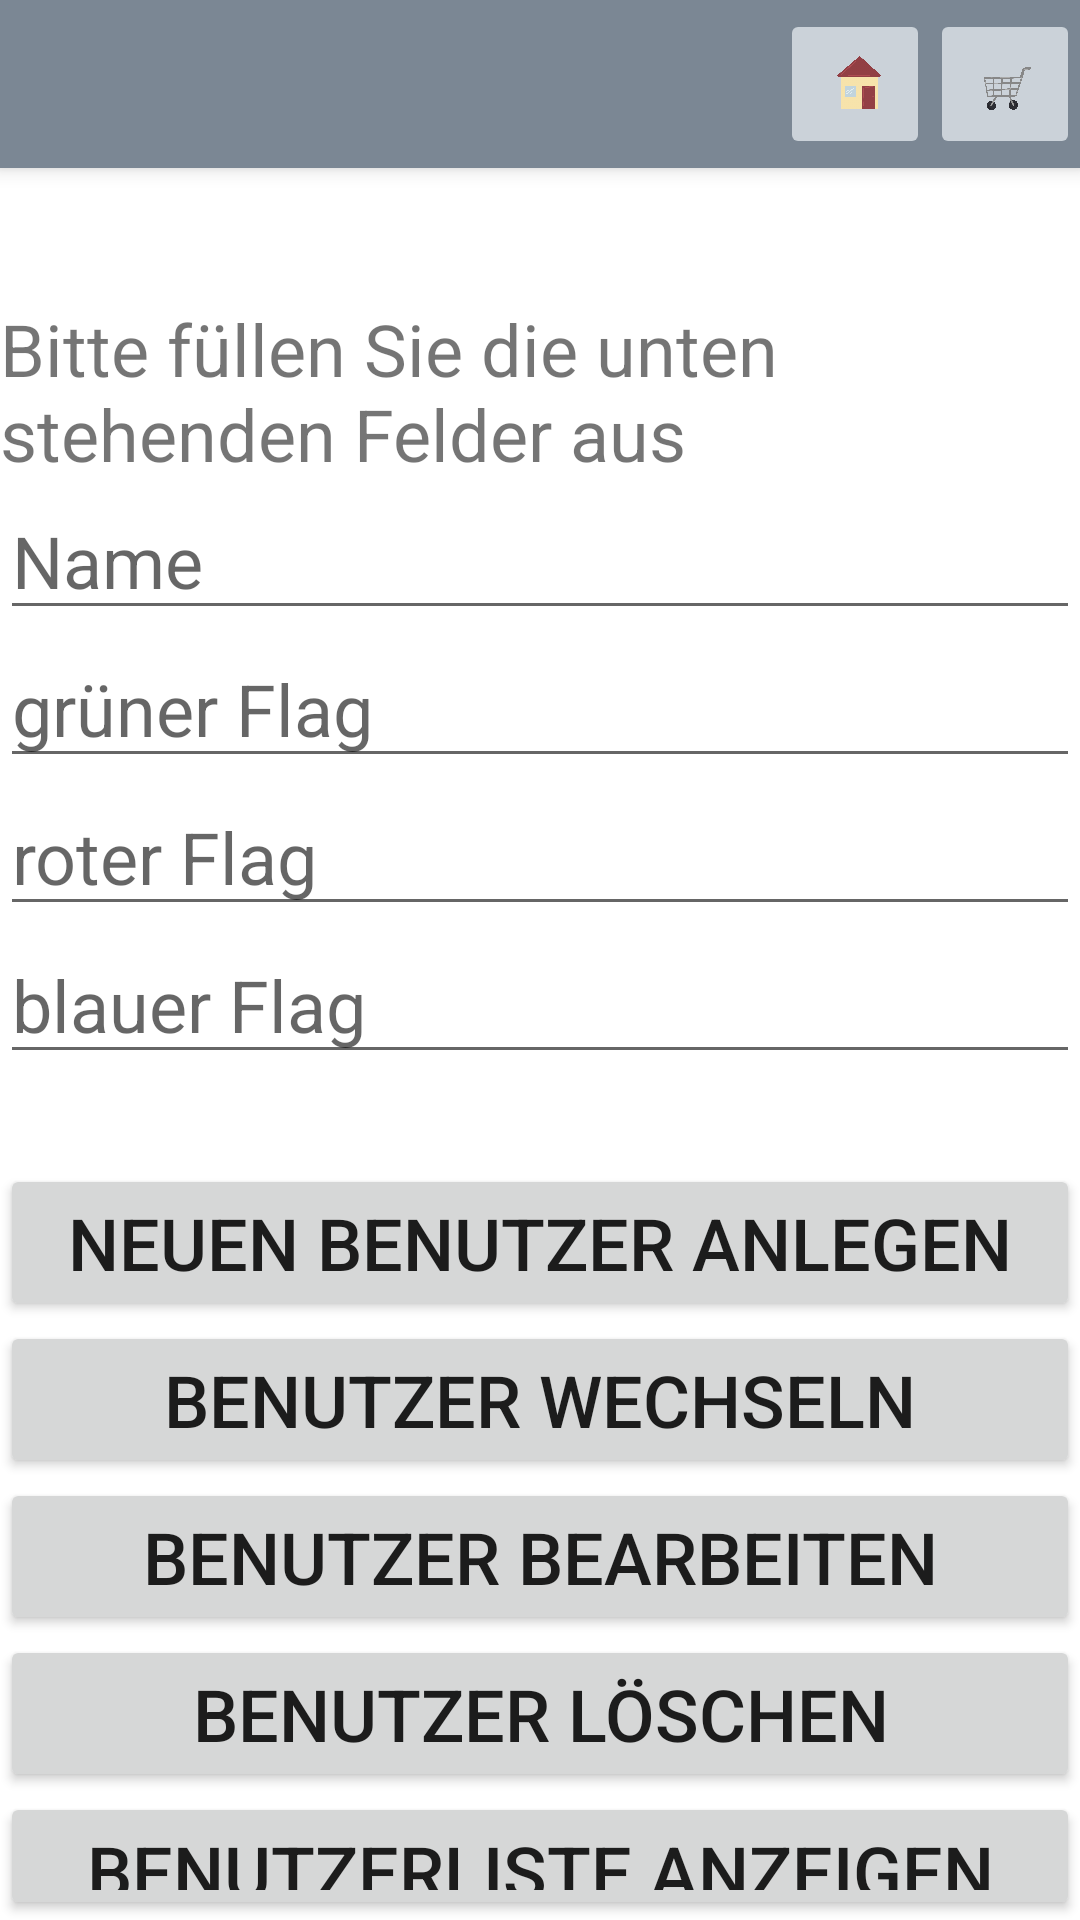

Icon bounding boxes for this 1080w x 1920h phone screenshot, format [x1,y1,x2,y2]:
home: [792,27,918,141]
warenkorb: [942,27,1068,141]
